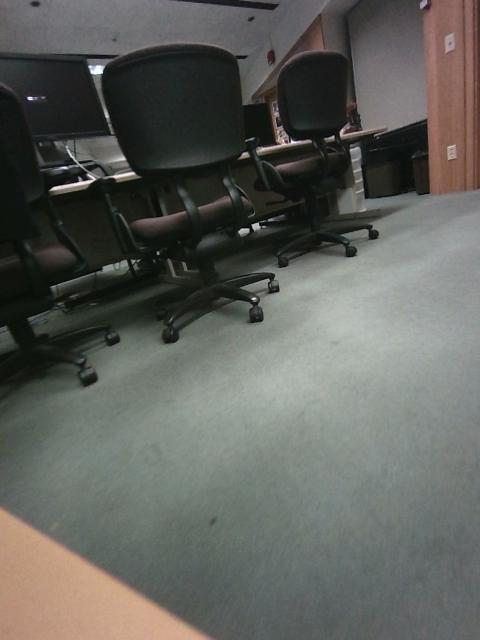block: (276, 279, 320, 304)
